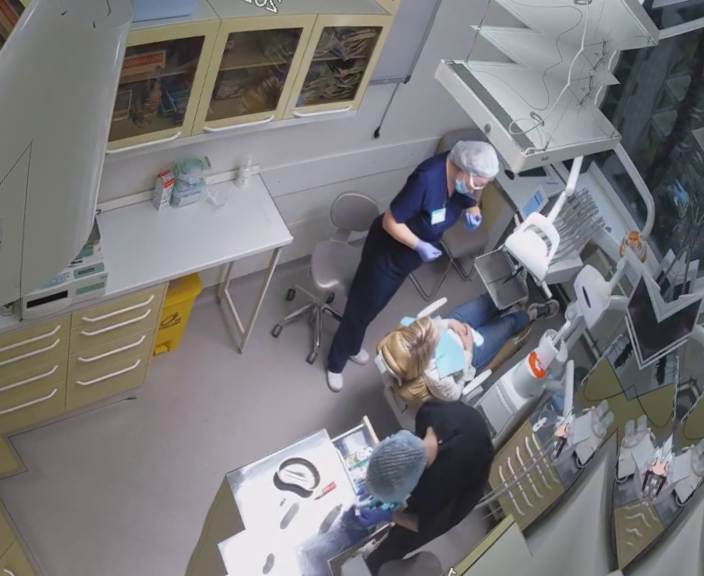Patient: (361, 244, 561, 440)
